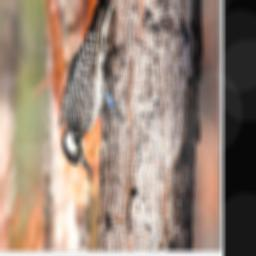Woodpecker: (53, 0, 134, 182)
